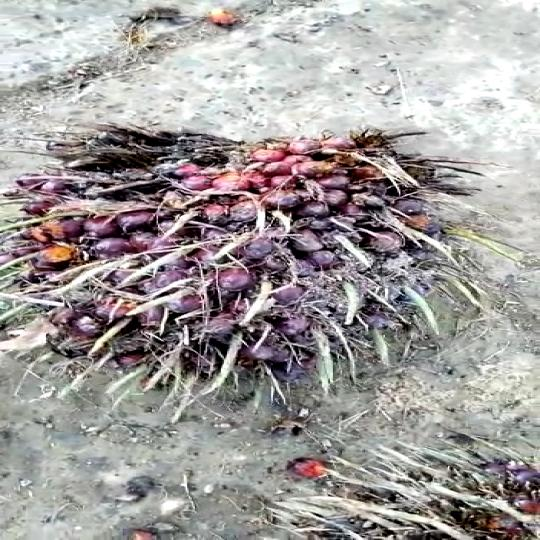masak: (0, 61, 494, 408)
